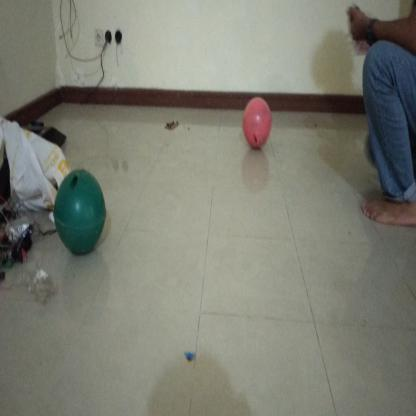green_buoy: (52, 164, 114, 258)
red_buoy: (240, 97, 273, 155)
